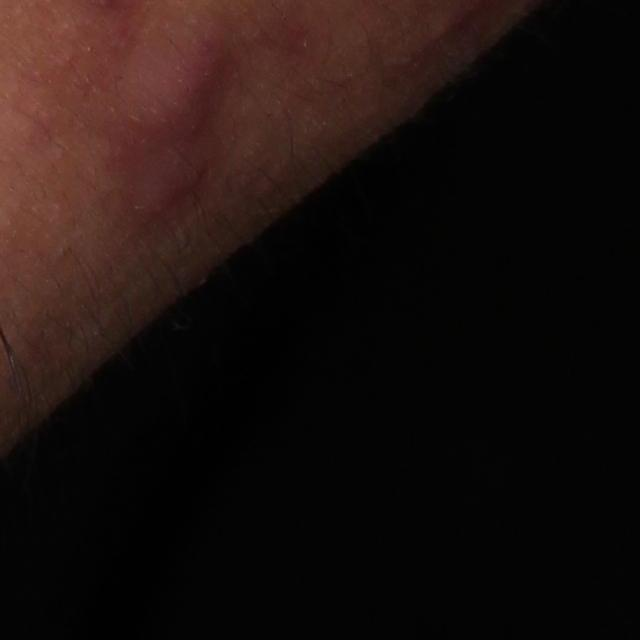nodule: (105, 14, 237, 211)
